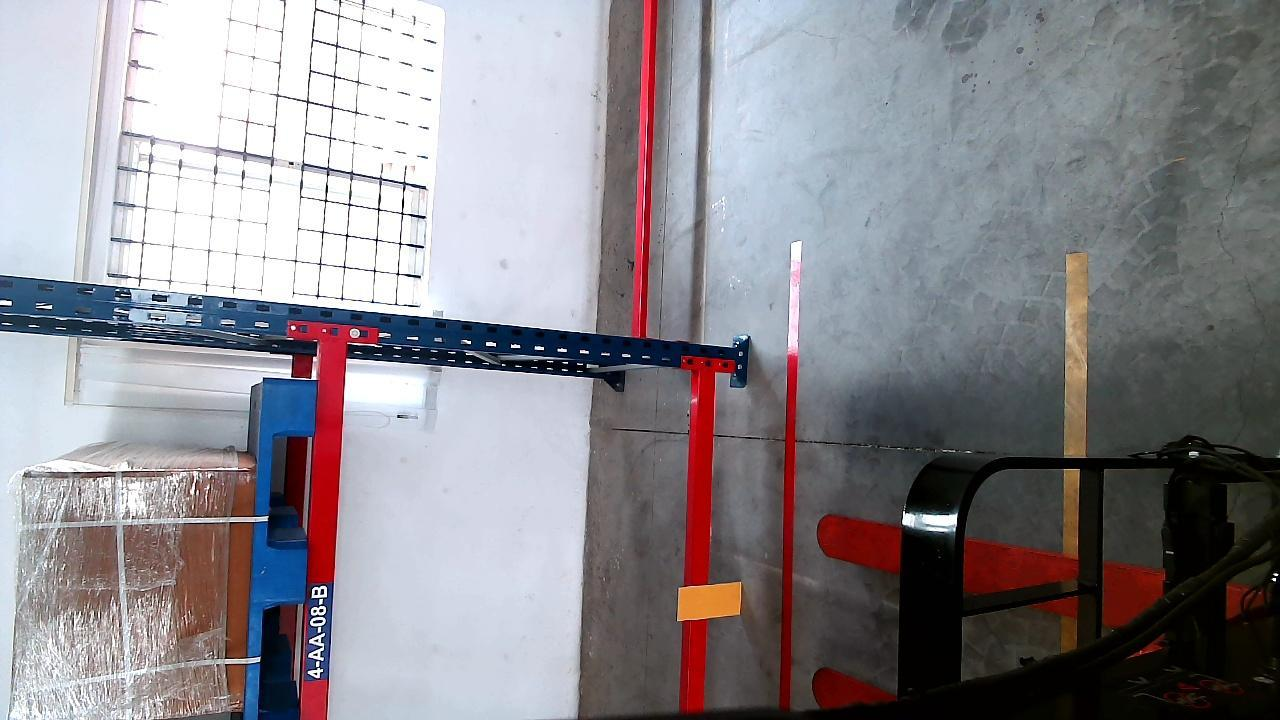red_line: (777, 244, 801, 705)
yellow_line: (1065, 243, 1088, 642)
